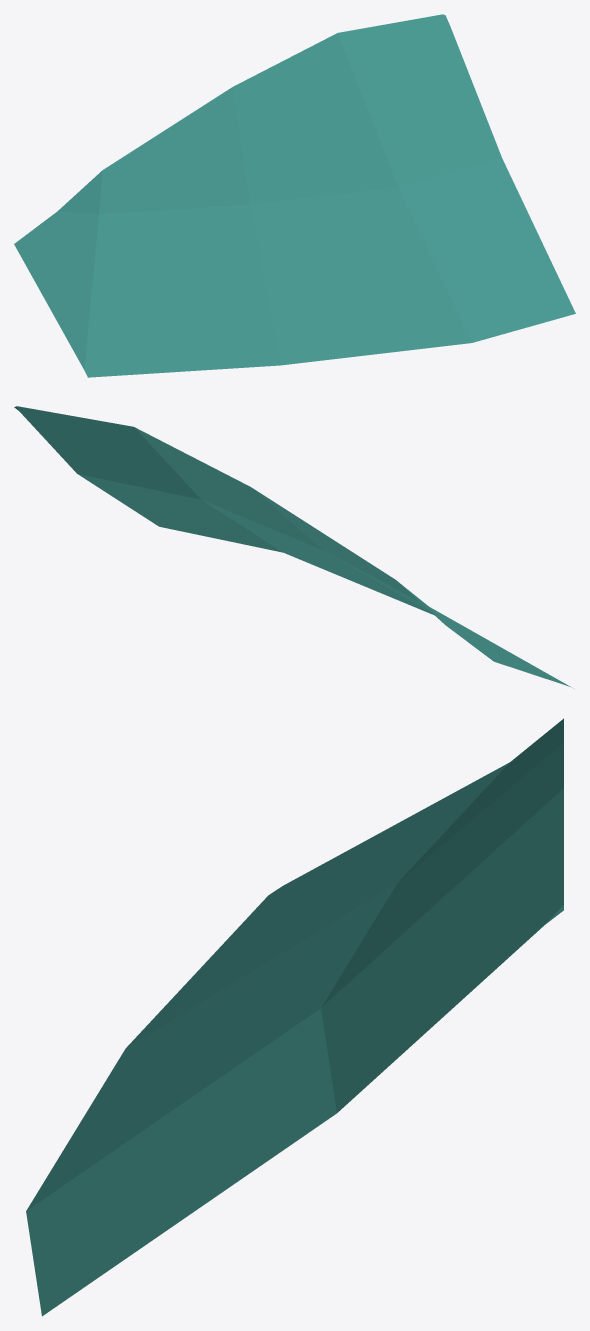
Rendered from cell_247.obj.
The picture shows the model from 3 angles, top to bottom: view 1: azimuth 30°, elevation 25°; view 2: azimuth 150°, elevation 25°; view 3: azimuth 270°, elevation 25°; orthographic projection. The views are drawn at different scales.
Bounding box in the file's own units: 1 × 0.4688 × 0.5398.
